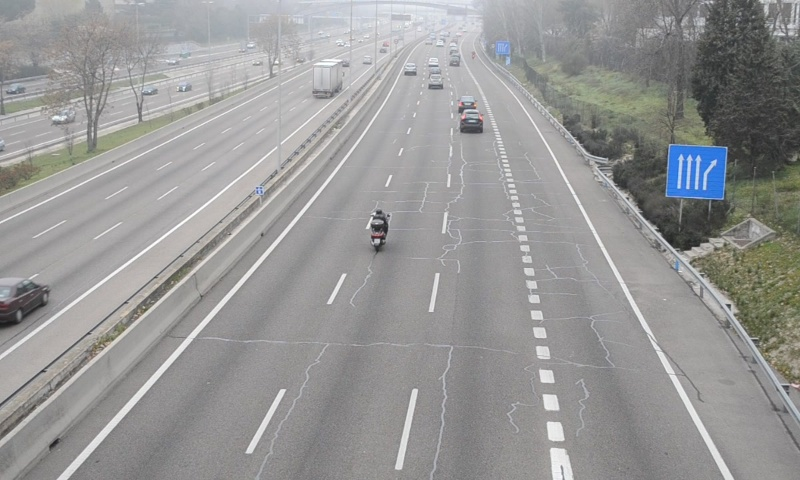car: (459, 110, 484, 132), (457, 95, 476, 111)
motorcycle: (368, 207, 390, 254)
